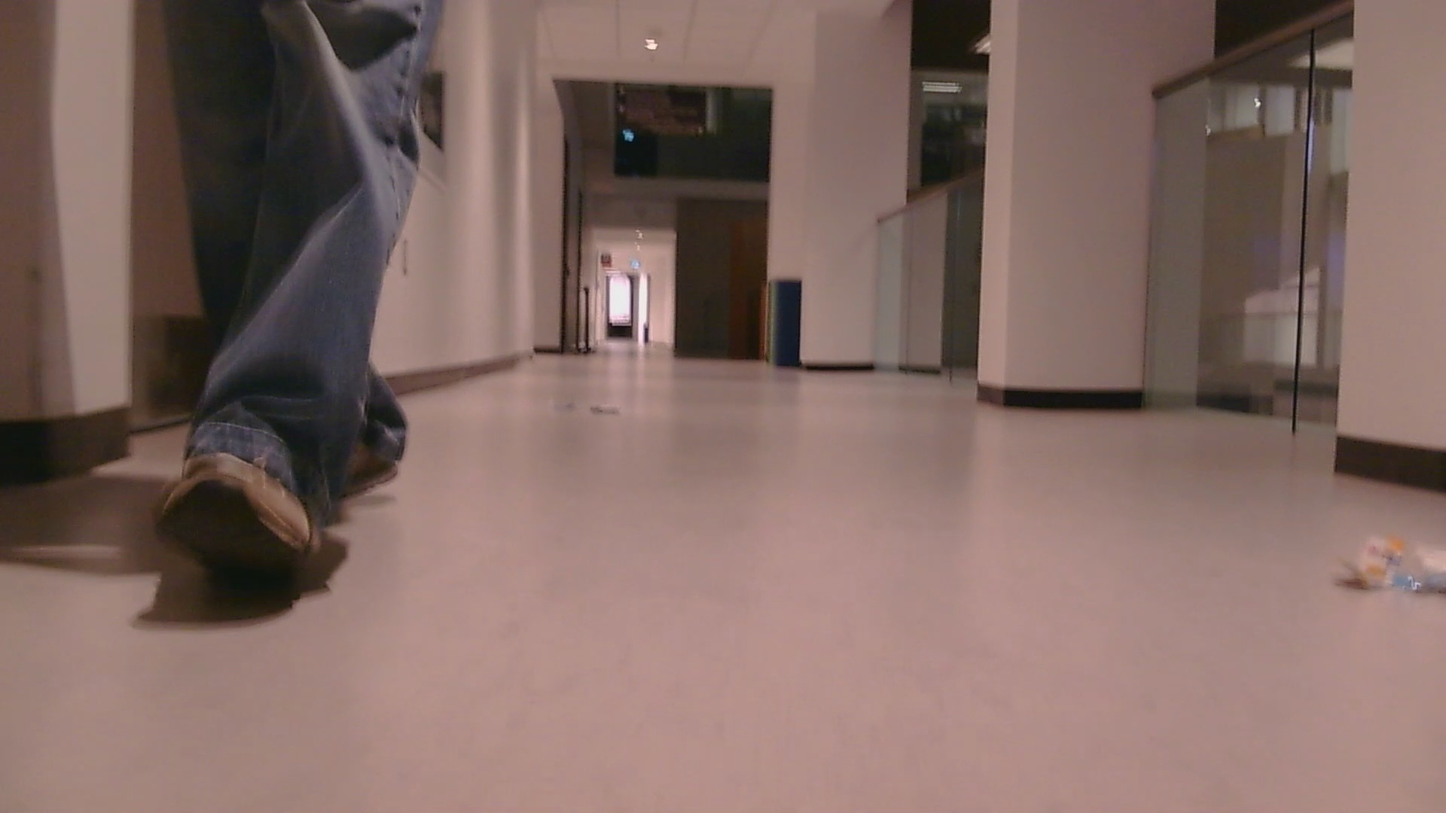carton: (1324, 510, 1446, 599), (538, 396, 583, 409), (592, 405, 630, 414)
